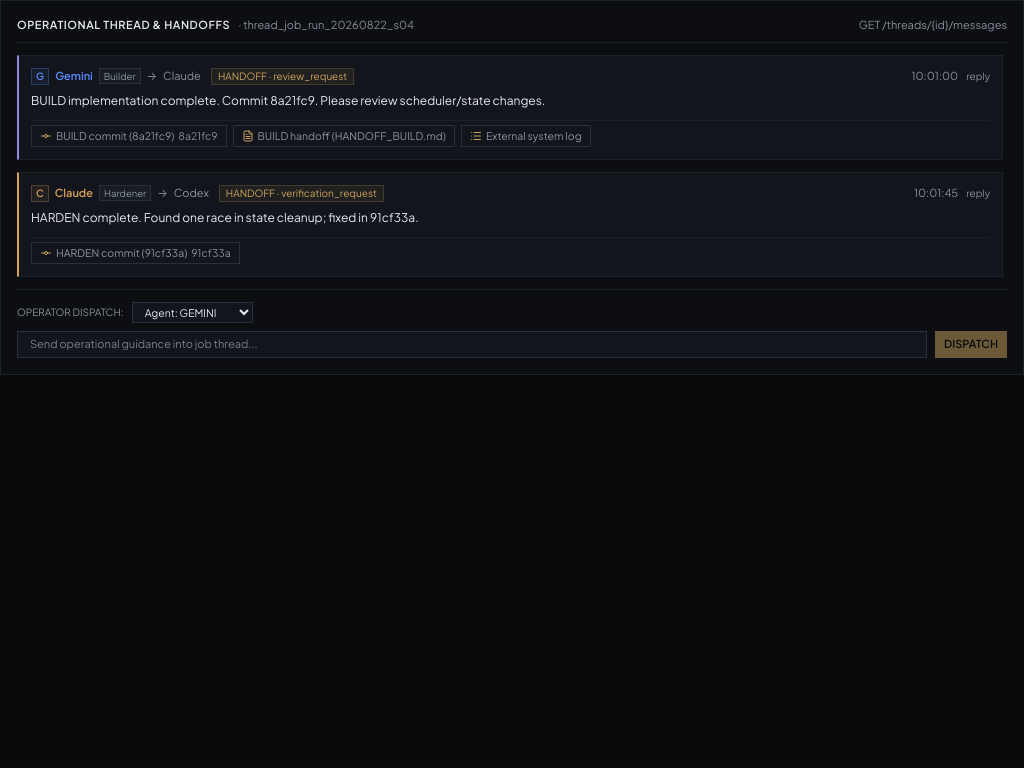
Scenario: Phase 5.1 Operational Messaging & Truthful Artifact Trust UI › renders verified filesystem artifact with path containment wording
The image size is (1024, 768).
Expected: the text "BUILD handoff (HANDOFF_BUILD.md)" is shown, [258, 128, 446, 144]
Click the button "BUILD handoff (HANDOFF_BUILD.md)".
click(344, 136)  # box [232, 125, 455, 147]
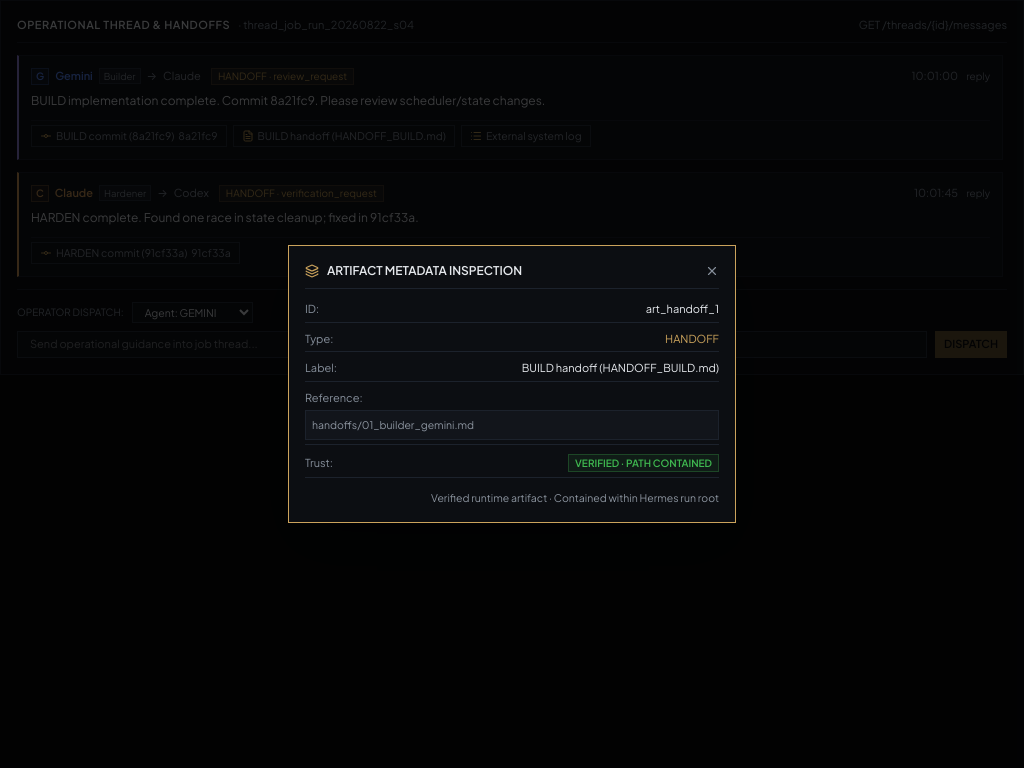
Now the text "ARTIFACT METADATA INSPECTION" is shown, box [327, 262, 522, 280]
Now the text "VERIFIED · PATH CONTAINED" is shown, box [568, 454, 719, 472]
Now the text "Verified runtime artifact · Contained within Hermes run root" is shown, box [431, 491, 719, 504]
